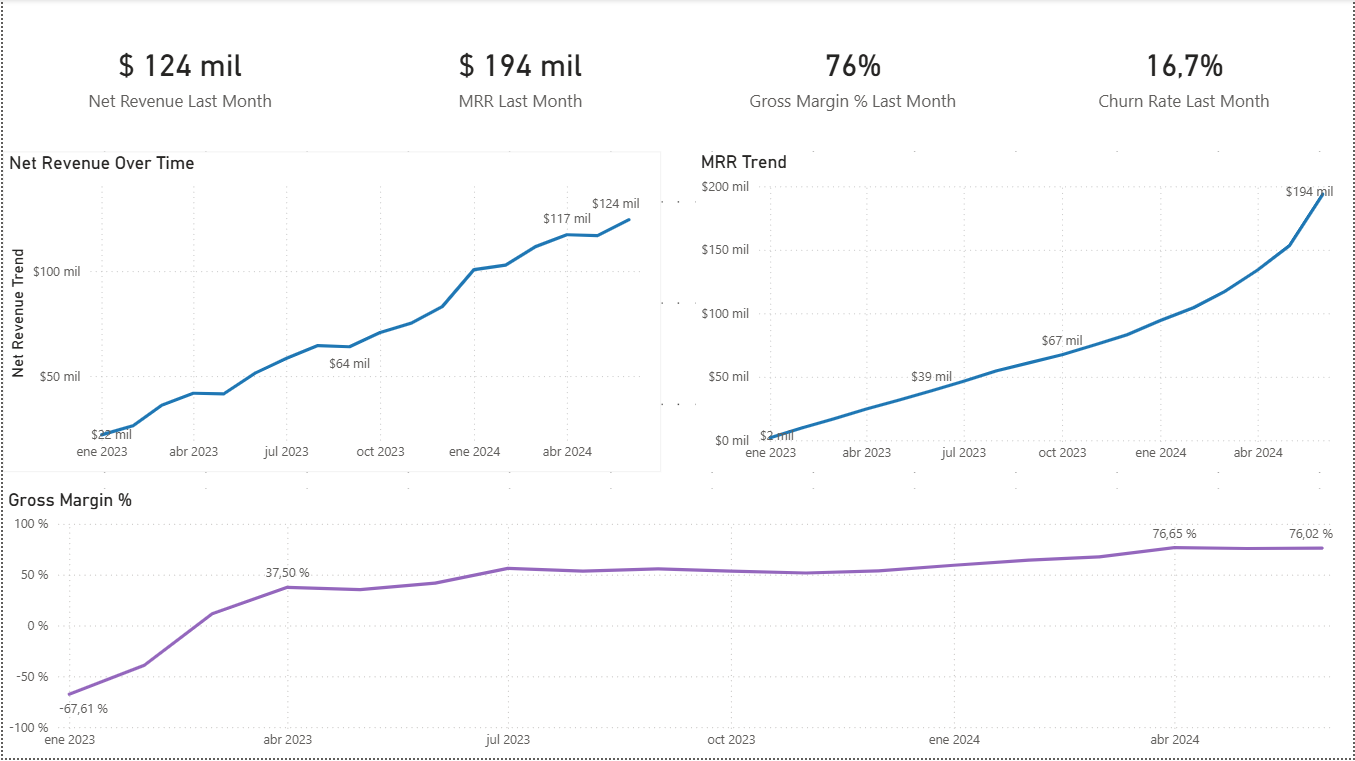

This screenshot's page, from the dashboard's own definition file:
{"tool":"powerbi","page":{"name":"Executive Overview","canvas":[1280,720],"ordinal":0},"visuals":[{"type":"card","fields":{"Values":["analytics vw_churn_rate.Net Revenue Last Month"]},"box":[0,0,336,144],"z":0},{"type":"card","fields":{"Values":["analytics vw_mrr.MRR Last Month"]},"box":[330.7,0,320,144],"z":1000},{"type":"card","fields":{"Values":["analytics vw_monthly_margin.Gross Margin % Last Month"]},"box":[645.3,0,320,144],"z":2000},{"type":"card","fields":{"Values":["analytics vw_churn_rate.Churn Rate Last Month"]},"box":[960,0,320,144],"z":3000},{"type":"lineChart","title":"Net Revenue Over Time","fields":{"Category":["analytics vw_monthly_revenue.month.Variación.Date Hierarchy.Year","analytics vw_monthly_revenue.month.Variación.Date Hierarchy.Quarter","analytics vw_monthly_revenue.month.Variación.Date Hierarchy.Month","analytics vw_monthly_revenue.month.Variación.Date Hierarchy.Day"],"Y":["Sum(analytics vw_monthly_revenue.net_revenue)"]},"box":[0,144,624,304],"z":4000},{"type":"lineChart","title":"MRR Trend","fields":{"Y":["Sum(analytics vw_mrr.mrr)"],"Category":["analytics vw_mrr.month"]},"box":[656,144,624,304],"z":5000},{"type":"lineChart","title":"Gross Margin %","fields":{"Y":["Sum(analytics vw_monthly_margin.margin_pct)"],"Category":["analytics vw_monthly_revenue.month"]},"box":[0,464,1280,256],"z":6000}]}

Visuals, with their boxes in screenshot pixels (x1, y1, x2, y2), scaled from the page's 1280x720 canvas onto the 1355x761 screenshot:
card - analytics vw_churn_rate.Net Revenue Last Month: bbox(0, 0, 356, 152)
card - analytics vw_mrr.MRR Last Month: bbox(350, 0, 689, 152)
card - analytics vw_monthly_margin.Gross Margin % Last Month: bbox(683, 0, 1022, 152)
card - analytics vw_churn_rate.Churn Rate Last Month: bbox(1016, 0, 1354, 152)
"Net Revenue Over Time" lineChart: bbox(0, 152, 661, 474)
"MRR Trend" lineChart: bbox(694, 152, 1354, 474)
"Gross Margin %" lineChart: bbox(0, 490, 1354, 760)
